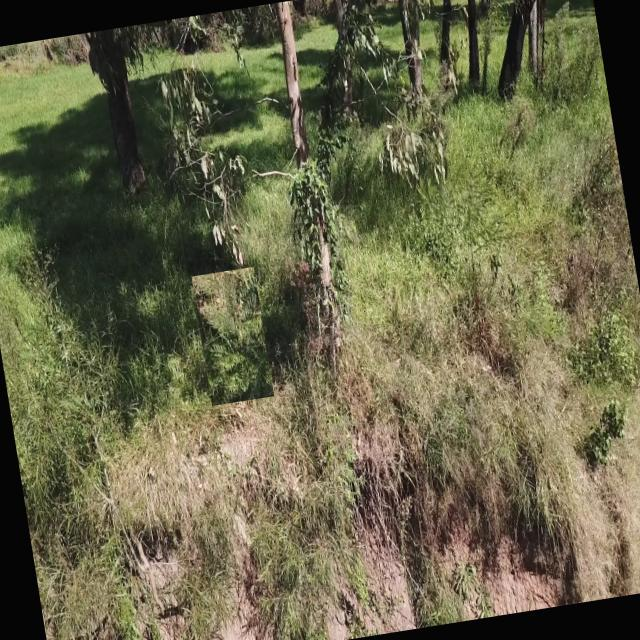Mysore-Thorn-Weed: (192, 267, 274, 406)
